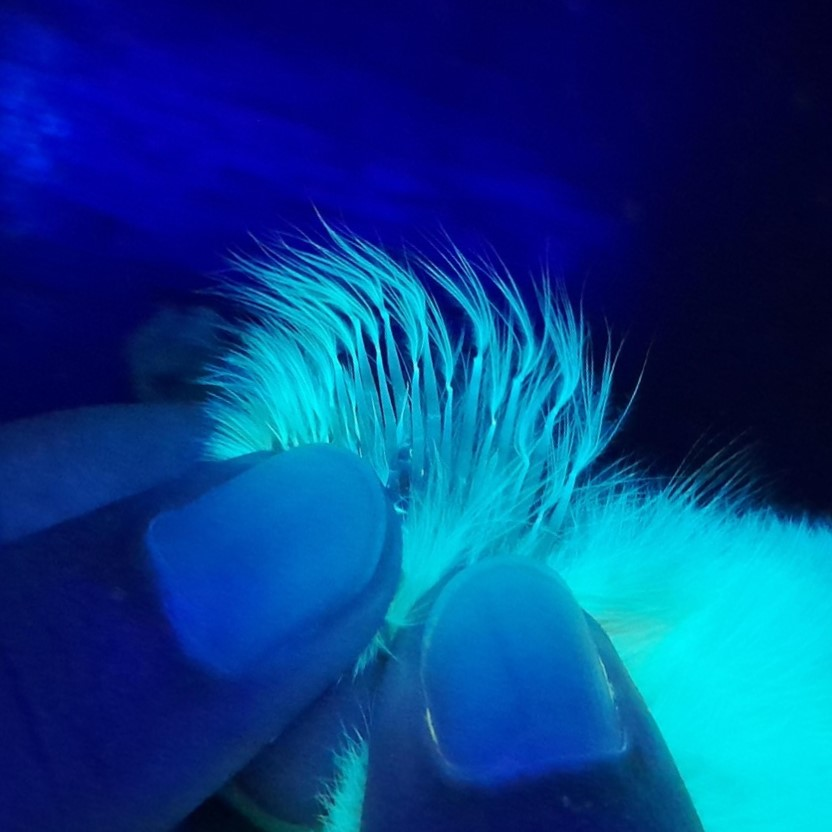female: (325, 299, 570, 566)
